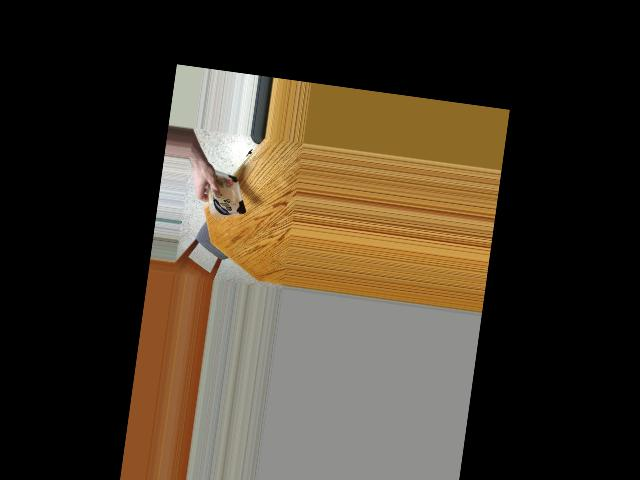cheese: (206, 164, 248, 217)
